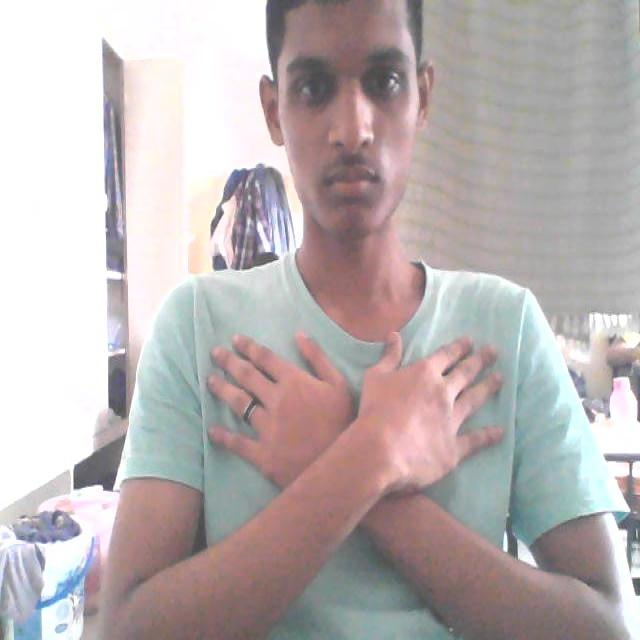Please: (198, 315, 520, 535)
